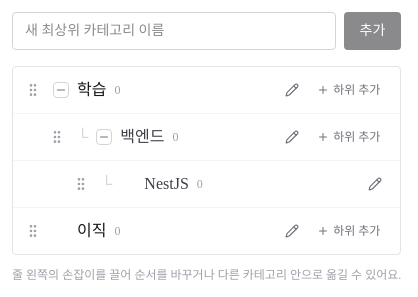
Test: CategoryManager: 이름 수정 › 이름을 바꿔 Enter를 누르면 화면에서 즉시 새 이름이 되고, 서버에 새 이름을 보낸다
The image size is (418, 297).
Step 1. Click the button named "이직 이름 수정" → [292, 231], box top-left (279, 218), bottom-right (305, 244)
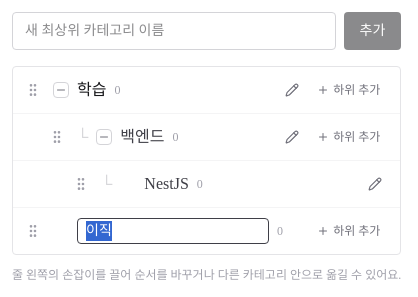
Step 2. Replace the text in the field named "이직 새 이름" with "커리어" → [173, 231], box top-left (77, 218), bottom-right (269, 244)
Then press Enter
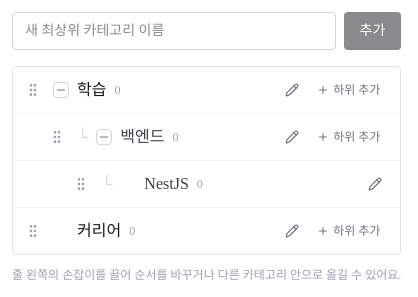
Expected: the text "커리어" is shown, top-left (77, 219), bottom-right (121, 243)
